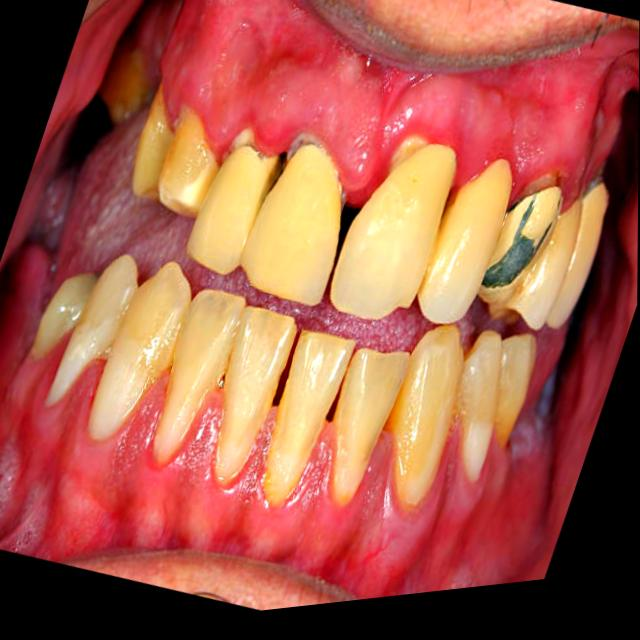calculus: (483, 195, 551, 285), (269, 135, 316, 190), (332, 442, 373, 504), (462, 423, 492, 481), (440, 188, 461, 233), (228, 128, 253, 155)
